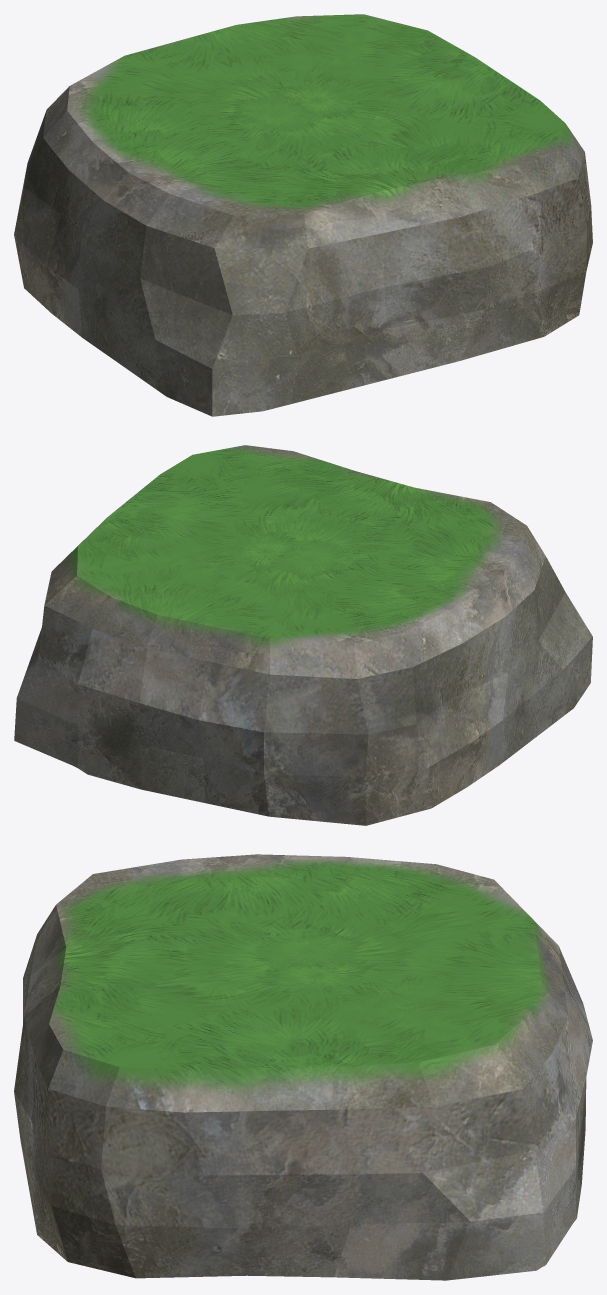
File: 4x4Cliff.fbx
3 views of the same model, one above another, from view 1: azimuth 30°, elevation 25°; view 2: azimuth 150°, elevation 25°; view 3: azimuth 270°, elevation 25° (orthographic). The views are drawn at different scales.
Visible parts, largest first — view 1: Cube; view 2: Cube; view 3: Cube.
Part boxes in pixels (x1,y1,x2,y2): Cube: (14, 14, 592, 416); Cube: (14, 445, 592, 825); Cube: (14, 854, 592, 1280).
Size of the model in its own units: 3.98 by 1.51 by 3.96.
